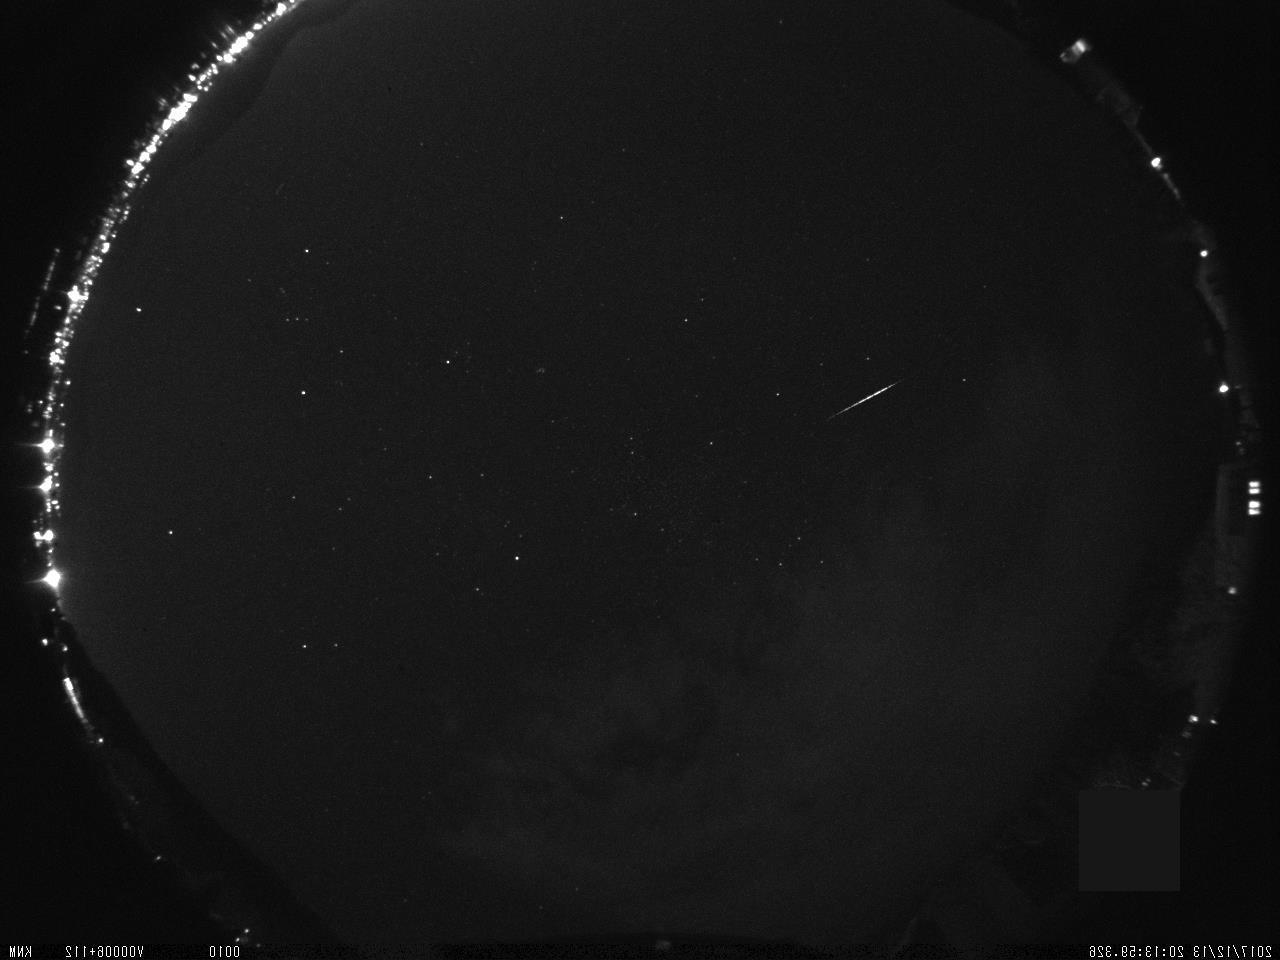meteor: (816, 373, 920, 438)
